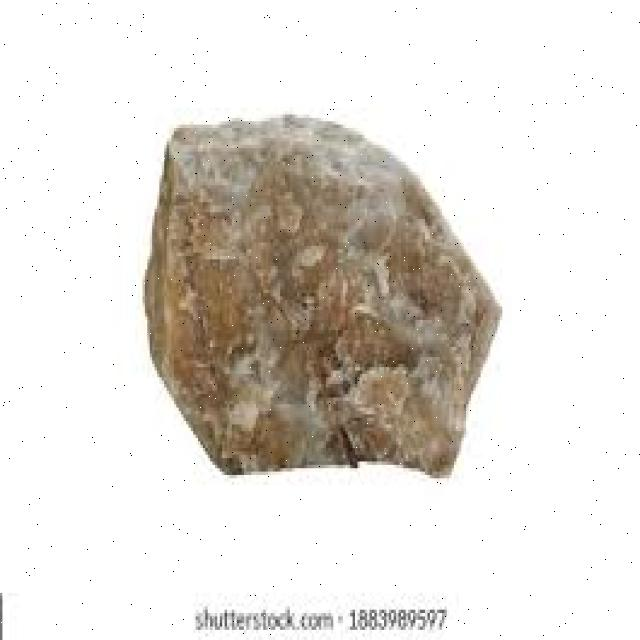Metamorphic: (135, 108, 498, 485)
